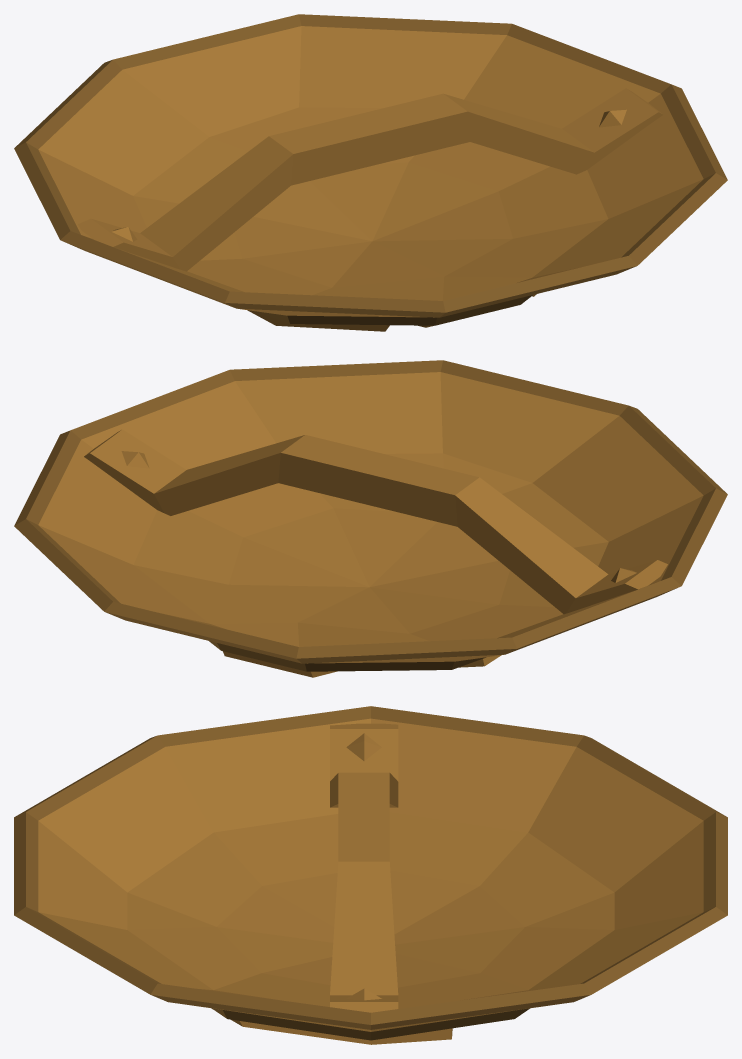
File: SM_Shield_Dwarf.fbx
3 renders of one model, top to bottom at view 1: azimuth 30°, elevation 25°; view 2: azimuth 150°, elevation 25°; view 3: azimuth 270°, elevation 25°, orthographic. The views are drawn at different scales.
Parts seen in each view (by area): view 1: SM_Shield_Dwarf; view 2: SM_Shield_Dwarf; view 3: SM_Shield_Dwarf.
Boxes of the visible parts, x1,y1,x2,y2 form: SM_Shield_Dwarf: (14, 14, 727, 331); SM_Shield_Dwarf: (14, 360, 727, 677); SM_Shield_Dwarf: (14, 706, 727, 1044).
Size of the model in its own units: 89.61 by 85.22 by 22.25.
